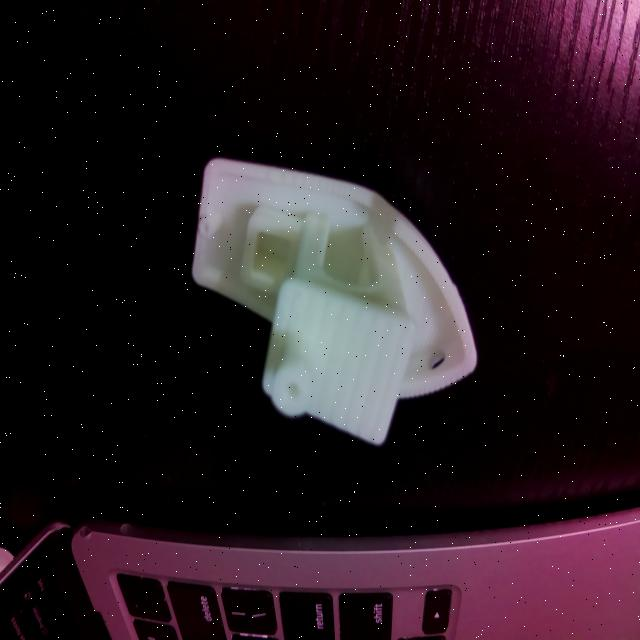ship: (191, 160, 477, 445)
